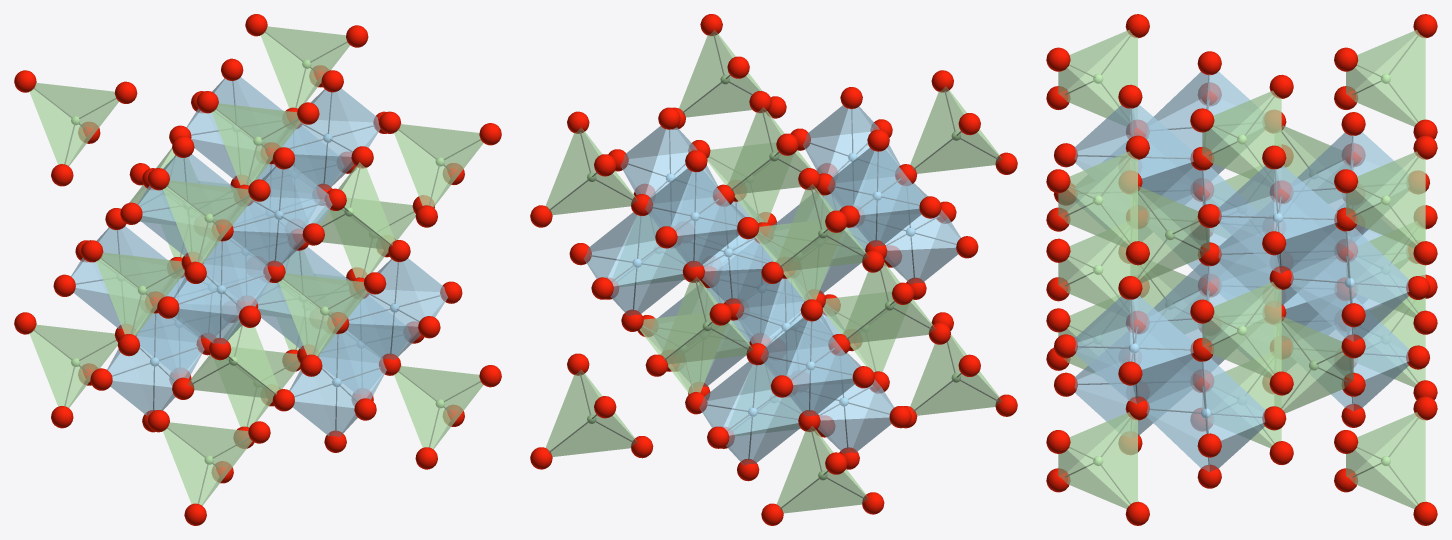
The model's file is Li4Ti5O12_spinel.glb.
3 views of the same model, side by side, from view 1: azimuth 30°, elevation 25°; view 2: azimuth 150°, elevation 25°; view 3: azimuth 270°, elevation 25° (orthographic). The views are drawn at different scales.
Parts seen in each view (by area): view 1: Shape_IndexedFaceSet, Shape_IndexedFaceSet.072, atom2_IndexedFaceSet, Shape_Cylinder, atom0_IndexedFaceSet; view 2: Shape_IndexedFaceSet.072, Shape_IndexedFaceSet, atom2_IndexedFaceSet, Shape_Cylinder, atom1_IndexedFaceSet, atom0_IndexedFaceSet; view 3: Shape_IndexedFaceSet, Shape_IndexedFaceSet.072, atom2_IndexedFaceSet, Shape_Cylinder, atom0_IndexedFaceSet.
Boxes of the visible parts, x1=… form: Shape_IndexedFaceSet: x1=29, y1=26, x2=483, y2=505; Shape_IndexedFaceSet.072: x1=71, y1=77, x2=447, y2=437; atom2_IndexedFaceSet: x1=14, y1=14, x2=501, y2=525; Shape_Cylinder: x1=34, y1=32, x2=480, y2=503; atom0_IndexedFaceSet: x1=71, y1=59, x2=444, y2=464; Shape_IndexedFaceSet.072: x1=584, y1=105, x2=960, y2=465; Shape_IndexedFaceSet: x1=545, y1=30, x2=1002, y2=513; atom2_IndexedFaceSet: x1=530, y1=14, x2=1017, y2=525; Shape_Cylinder: x1=550, y1=34, x2=997, y2=507; atom1_IndexedFaceSet: x1=632, y1=153, x2=915, y2=416; atom0_IndexedFaceSet: x1=587, y1=75, x2=960, y2=480; Shape_IndexedFaceSet: x1=1058, y1=30, x2=1425, y2=508; Shape_IndexedFaceSet.072: x1=1074, y1=71, x2=1409, y2=472; atom2_IndexedFaceSet: x1=1046, y1=14, x2=1437, y2=525; Shape_Cylinder: x1=1065, y1=35, x2=1418, y2=504; atom0_IndexedFaceSet: x1=1093, y1=74, x2=1390, y2=466.
Bounding box in the file's own units: 11.36 × 11.35 × 11.36.
